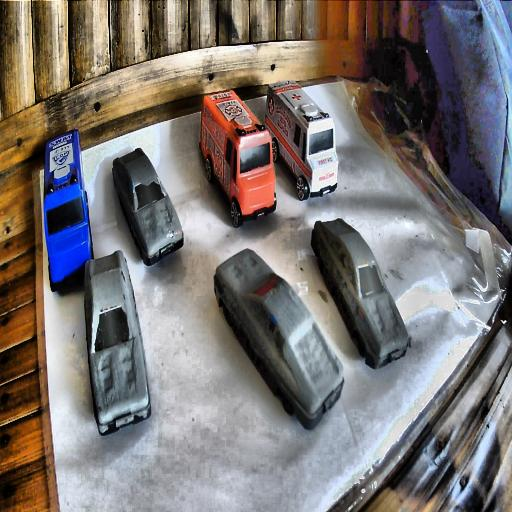ambulance: (266, 78, 336, 201)
fire_truck: (198, 88, 277, 225)
normal_car: (214, 248, 341, 428), (314, 218, 412, 368), (82, 252, 151, 435), (112, 148, 184, 266)
police car: (42, 127, 94, 292)
